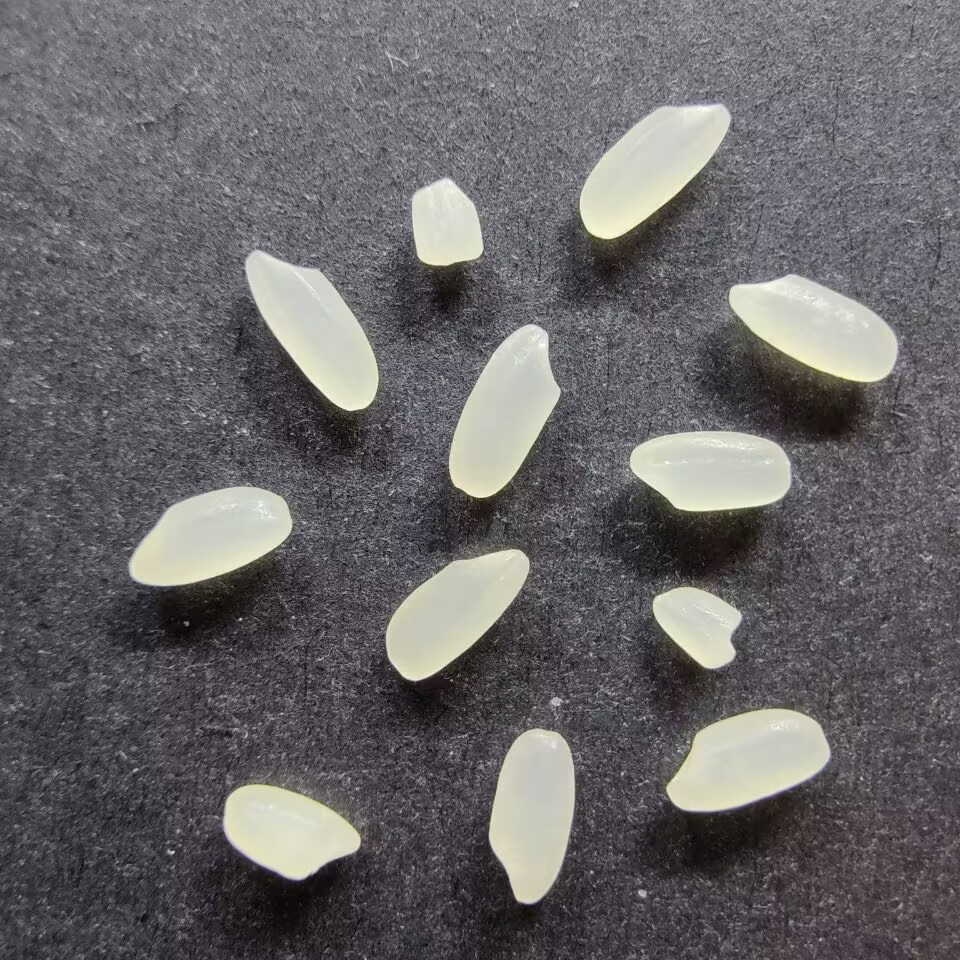broken: (651, 586, 743, 669), (408, 177, 485, 267)
rice: (243, 248, 379, 413), (579, 98, 729, 239), (446, 323, 561, 500), (383, 547, 530, 682), (727, 272, 900, 384), (665, 707, 831, 814), (129, 484, 291, 587), (486, 728, 575, 905), (221, 783, 361, 882), (627, 430, 792, 513)
